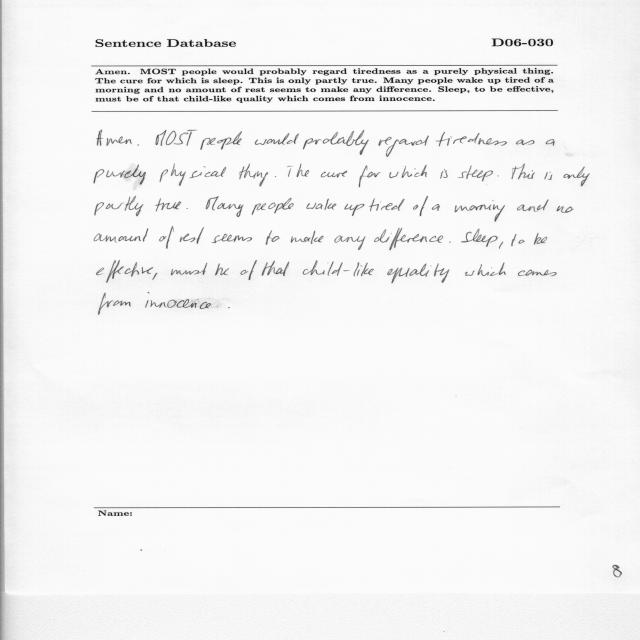word: (303, 130, 369, 155), (374, 228, 443, 250), (160, 164, 226, 186), (97, 260, 153, 283), (388, 264, 450, 284), (303, 260, 374, 276), (379, 135, 429, 157), (455, 200, 505, 222), (94, 164, 146, 185), (436, 132, 507, 146), (95, 196, 143, 216), (145, 292, 199, 308), (95, 228, 149, 243), (201, 131, 243, 150), (206, 196, 243, 217), (98, 293, 131, 315), (252, 198, 294, 215), (155, 130, 197, 146), (240, 164, 269, 187), (461, 229, 498, 247), (96, 130, 132, 146), (465, 262, 506, 276), (458, 166, 493, 182), (255, 133, 299, 145), (563, 167, 590, 186), (389, 165, 427, 178), (359, 165, 381, 187), (369, 199, 405, 212), (291, 230, 324, 244), (335, 236, 366, 250), (171, 263, 207, 275), (262, 260, 289, 276), (517, 199, 549, 212), (180, 227, 204, 244), (155, 198, 181, 212), (512, 164, 536, 179), (212, 234, 252, 243), (159, 226, 174, 249), (240, 260, 257, 280), (307, 199, 337, 210), (413, 196, 428, 216), (287, 164, 309, 177), (345, 204, 365, 216), (518, 270, 557, 276), (266, 230, 280, 245), (321, 171, 347, 178), (512, 234, 526, 246), (215, 264, 229, 276), (534, 233, 547, 244), (557, 206, 574, 213), (516, 140, 534, 145), (440, 169, 448, 179), (200, 302, 211, 309), (545, 172, 553, 180), (546, 139, 555, 146), (432, 204, 440, 211), (153, 273, 158, 280), (499, 242, 503, 249), (137, 144, 139, 146), (186, 208, 188, 209), (449, 242, 451, 243), (275, 176, 276, 177), (498, 176, 499, 177)
